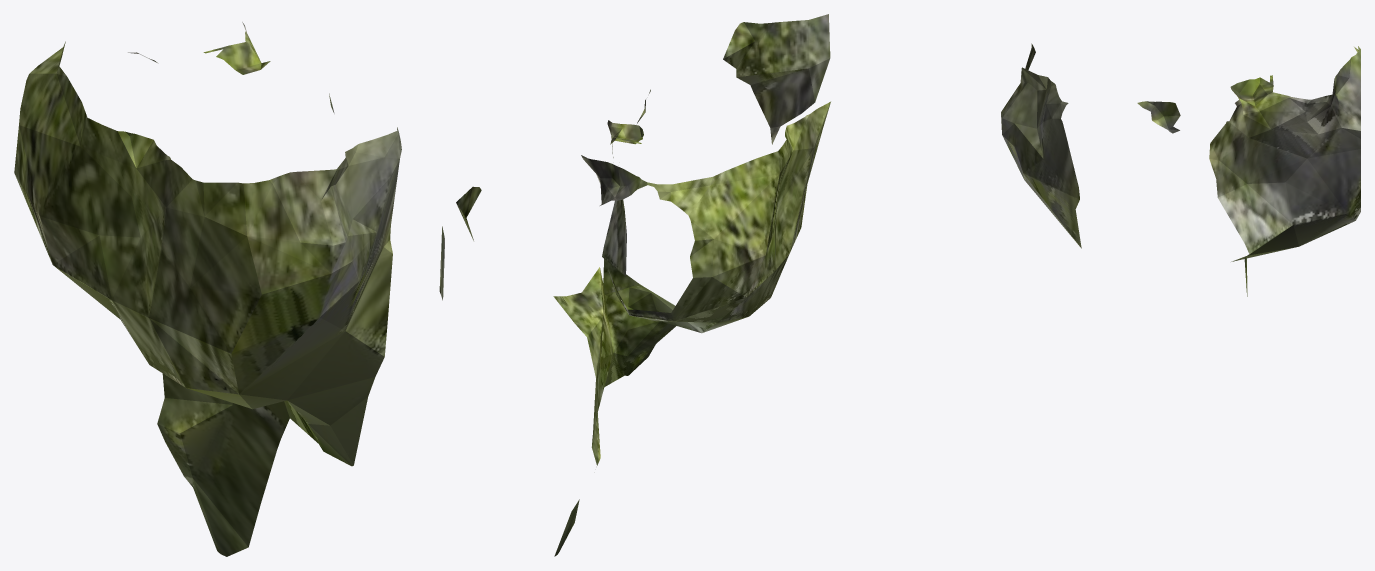
The picture shows the model from 3 angles, left to right: view 1: azimuth 30°, elevation 25°; view 2: azimuth 150°, elevation 25°; view 3: azimuth 270°, elevation 25°; orthographic projection. The views are drawn at different scales.
Size of the model in its own units: 1.32 by 2.95 by 2.95.
3 materials, 3 textured.
